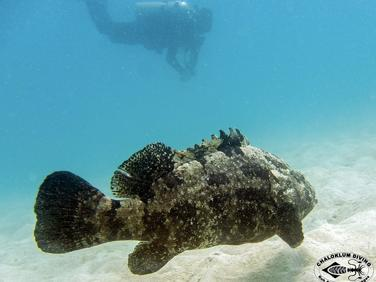Serranidae -Groupers-: (31, 125, 318, 276)
